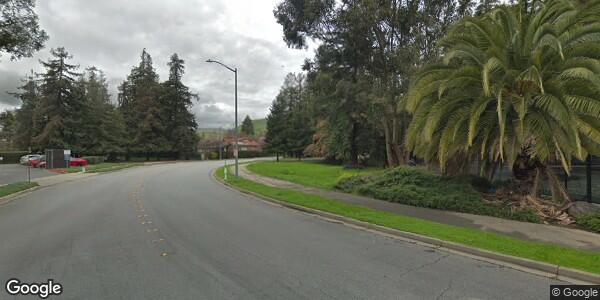Steel_Pole: (202, 58, 241, 176)
